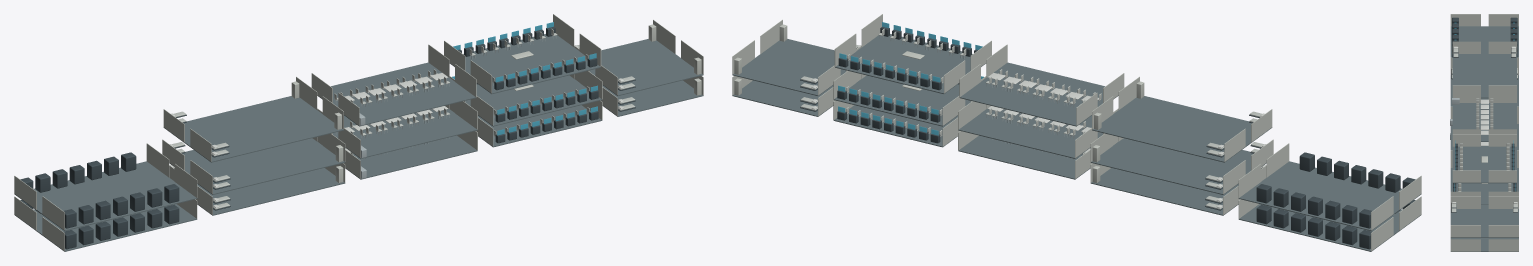
File: ATLAS_W_Interior.glb
3 renders of one model, left to right at view 1: azimuth 30°, elevation 25°; view 2: azimuth 150°, elevation 25°; view 3: azimuth 270°, elevation 25°, orthographic. The views are drawn at different scales.
Visible parts, largest first — view 1: INT_GenericArrangement__floor, INT_GenericArrangement__interior, INT_GenericArrangement__darkdeck, INT_GenericArrangement__fabric, INT_GenericArrangement__screen, INT_GenericArrangement__white, INT_GenericArrangement__chrome; view 2: INT_GenericArrangement__floor, INT_GenericArrangement__interior, INT_GenericArrangement__darkdeck, INT_GenericArrangement__fabric, INT_GenericArrangement__screen, INT_GenericArrangement__white, INT_GenericArrangement__chrome; view 3: INT_GenericArrangement__floor, INT_GenericArrangement__interior, INT_GenericArrangement__darkdeck, INT_GenericArrangement__fabric, INT_GenericArrangement__white, INT_GenericArrangement__screen, INT_GenericArrangement__chrome.
Part boxes in pixels (bbox=[...]): INT_GenericArrangement__floor: bbox=[14, 34, 703, 251]; INT_GenericArrangement__interior: bbox=[14, 14, 703, 251]; INT_GenericArrangement__darkdeck: bbox=[20, 26, 635, 249]; INT_GenericArrangement__fabric: bbox=[172, 28, 635, 209]; INT_GenericArrangement__screen: bbox=[452, 22, 597, 135]; INT_GenericArrangement__white: bbox=[169, 45, 624, 207]; INT_GenericArrangement__chrome: bbox=[335, 35, 587, 178]; INT_GenericArrangement__floor: bbox=[732, 34, 1421, 251]; INT_GenericArrangement__interior: bbox=[732, 14, 1421, 251]; INT_GenericArrangement__darkdeck: bbox=[800, 26, 1415, 249]; INT_GenericArrangement__fabric: bbox=[800, 28, 1263, 209]; INT_GenericArrangement__screen: bbox=[838, 22, 983, 135]; INT_GenericArrangement__white: bbox=[811, 45, 1266, 207]; INT_GenericArrangement__chrome: bbox=[848, 35, 1100, 159]; INT_GenericArrangement__floor: bbox=[1450, 26, 1518, 251]; INT_GenericArrangement__interior: bbox=[1450, 14, 1518, 251]; INT_GenericArrangement__darkdeck: bbox=[1451, 17, 1517, 212]; INT_GenericArrangement__fabric: bbox=[1451, 47, 1517, 212]; INT_GenericArrangement__white: bbox=[1452, 46, 1517, 203]; INT_GenericArrangement__screen: bbox=[1454, 22, 1515, 191]; INT_GenericArrangement__chrome: bbox=[1450, 98, 1459, 139].
Size of the model in its own units: 82.07 by 8.7 by 11.3.
